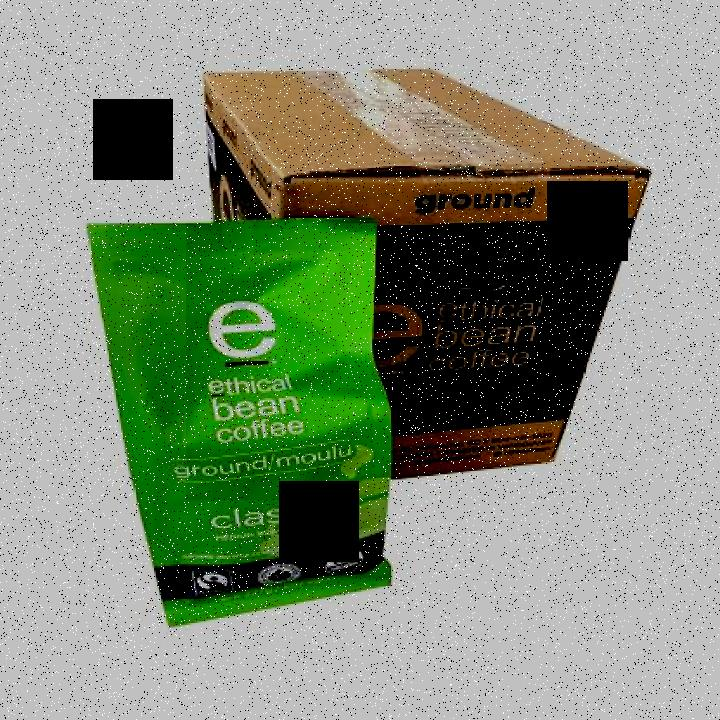box: (186, 40, 671, 500)
